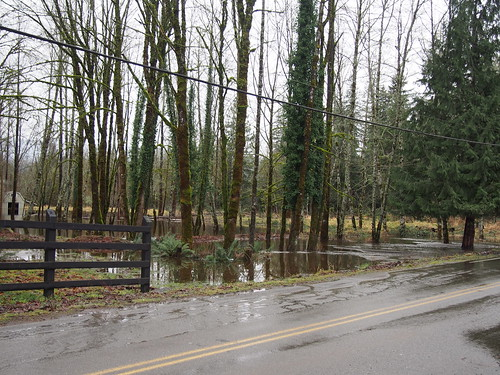street: (1, 260, 500, 375)
tree: (400, 1, 500, 238)
vegetation: (1, 1, 495, 236)
